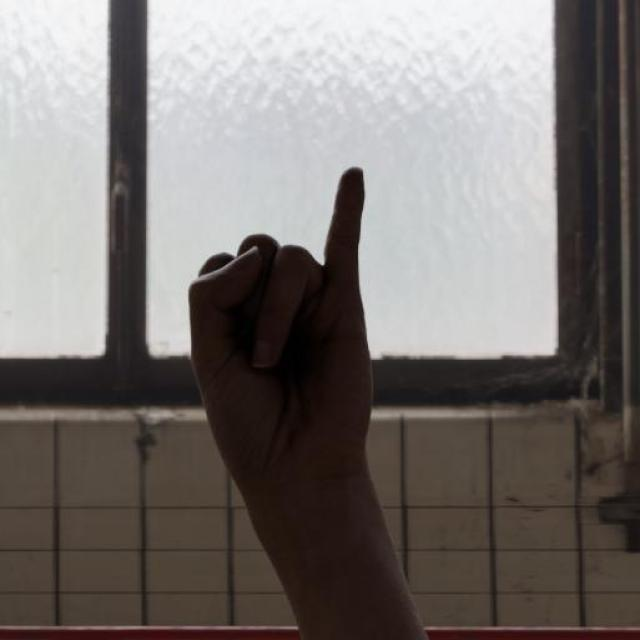I: (184, 163, 379, 497)
